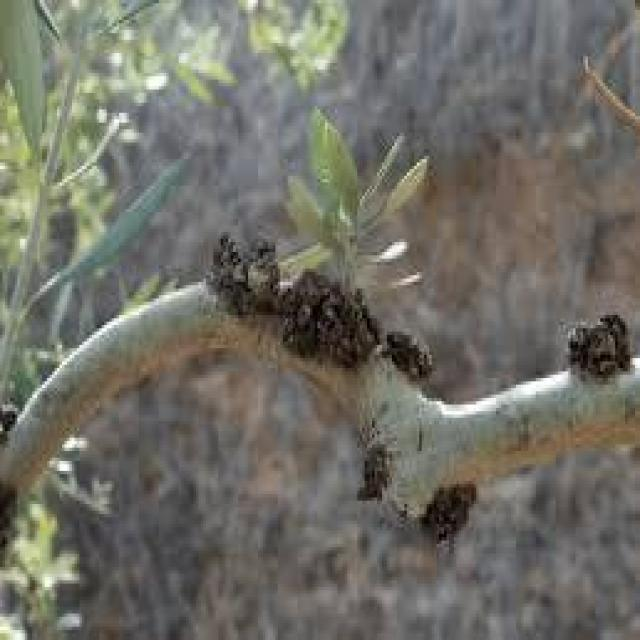Tuberculosis: (206, 232, 429, 381), (572, 312, 638, 382), (422, 478, 474, 548)
